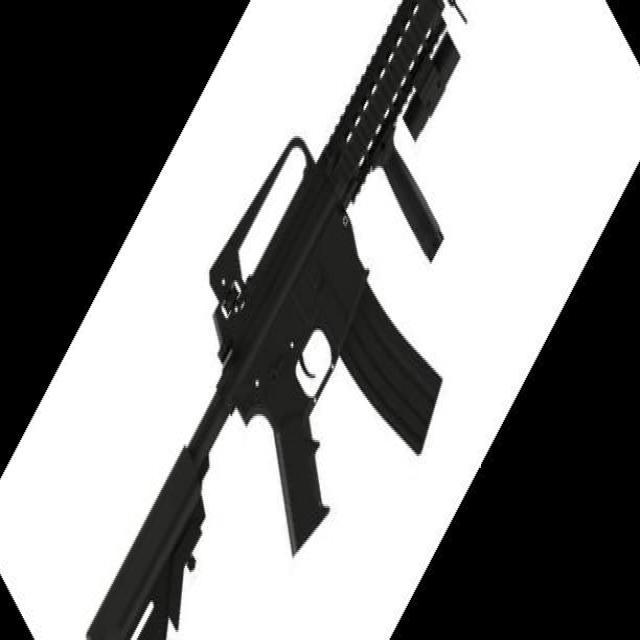weapon: (86, 0, 470, 640)
